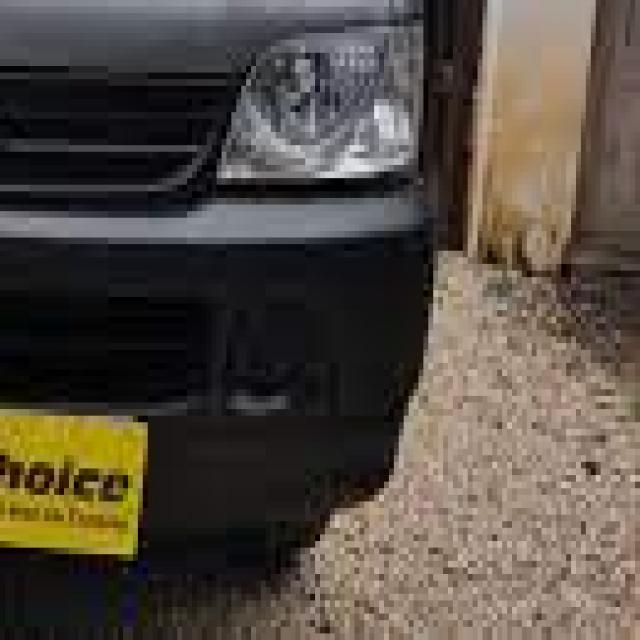car: (0, 0, 463, 548)
